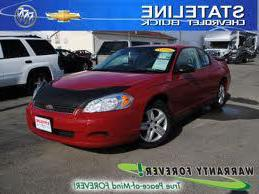Car: (18, 37, 239, 158)
